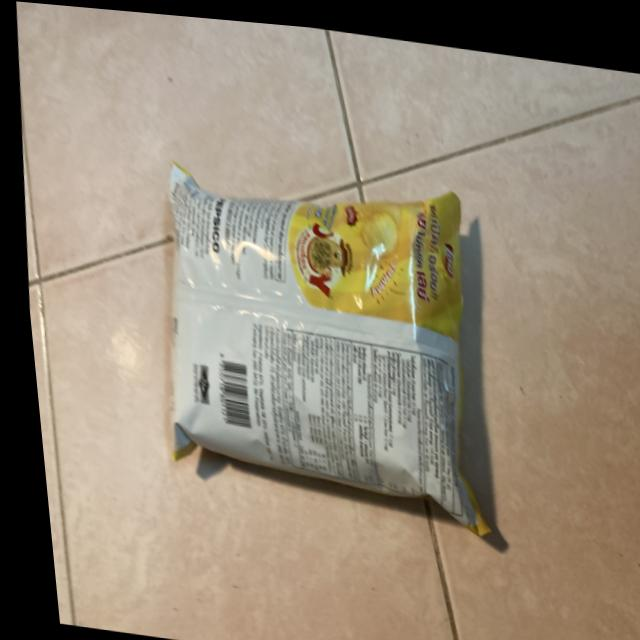LayYellow: (128, 147, 502, 536)
